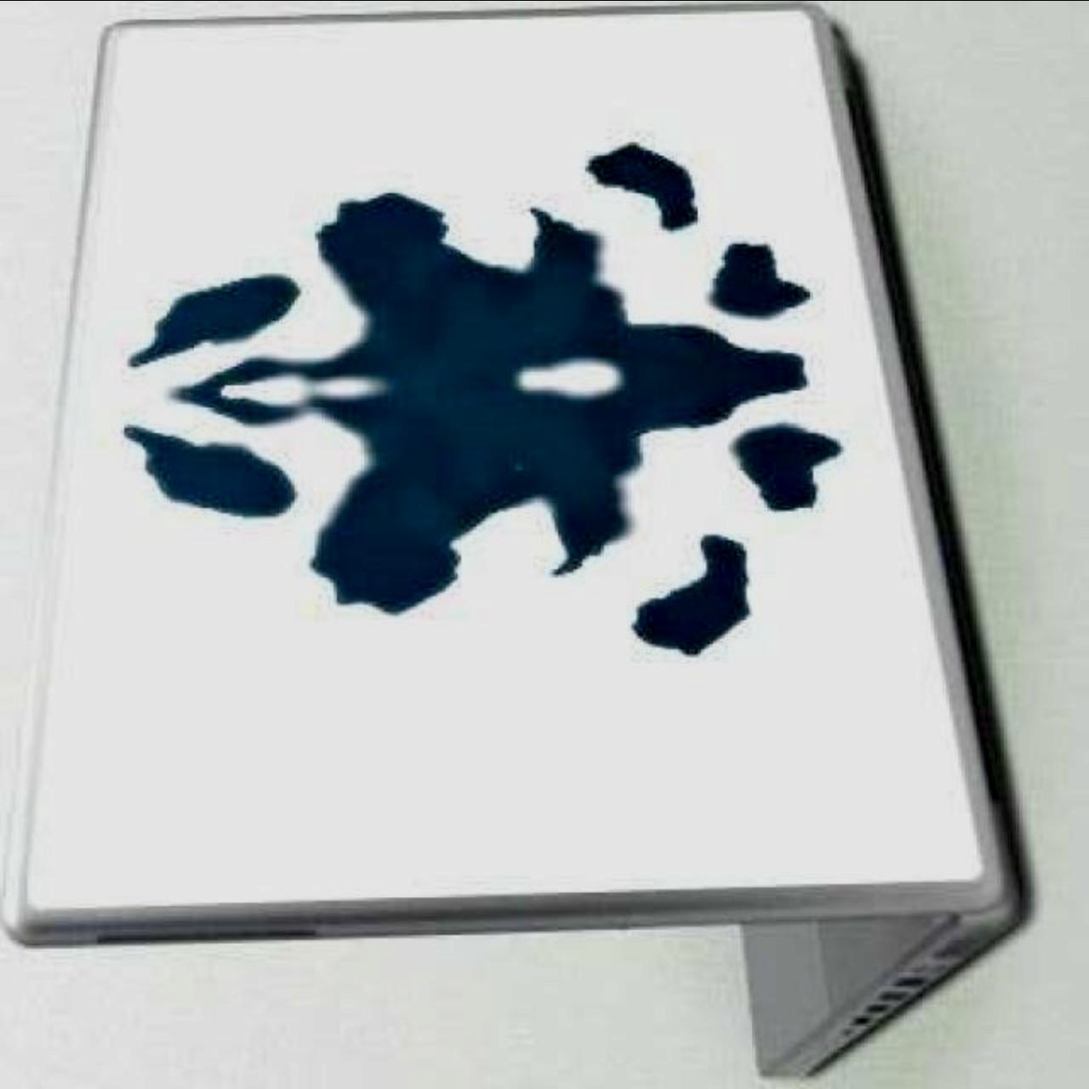laptop: (9, 0, 1012, 1065)
